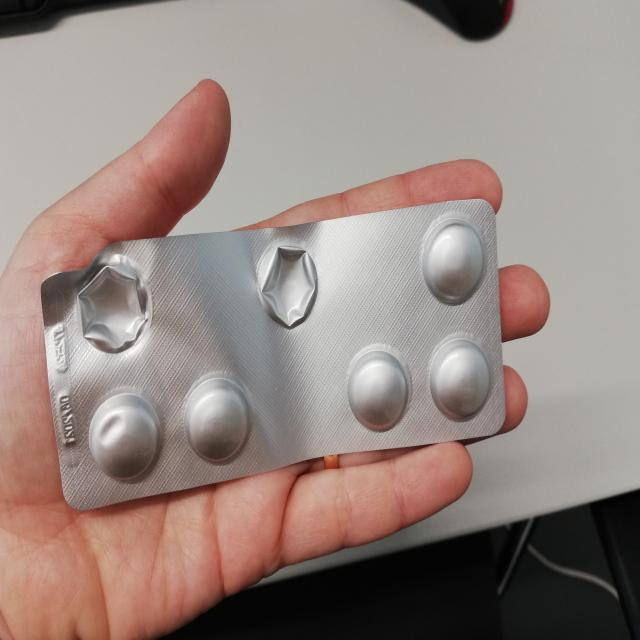Empty: (72, 261, 154, 358), (253, 235, 321, 332)
Pill: (85, 389, 164, 488), (178, 372, 253, 468), (343, 336, 414, 433), (424, 329, 496, 424), (419, 211, 485, 307)
